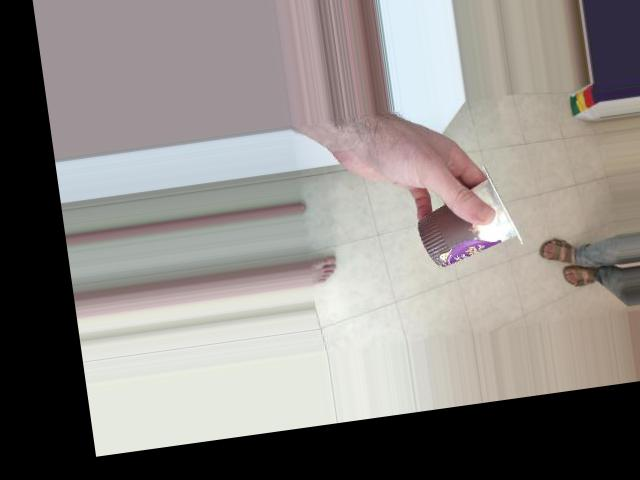milky: (401, 179, 525, 263)
